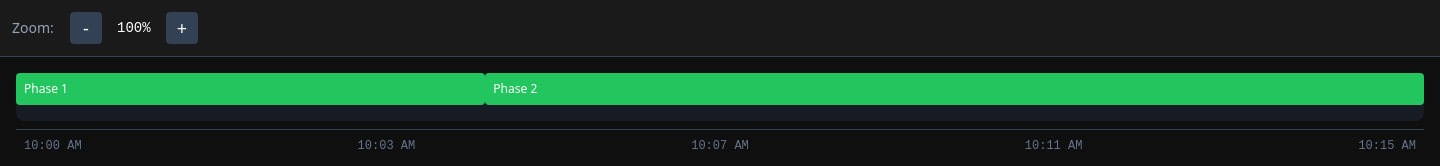
TimelineView › should increase zoom when zoom in button is clicked
Expected: the text with test id "zoom-level" reads "100%", [117,20,151,36]
Click the button with test id "zoom-in-button".
click(182, 28)  # box [166,12,198,44]
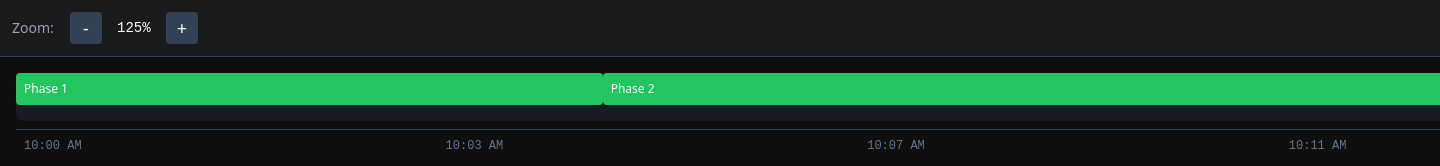
Expected: the text with test id "zoom-level" reads "125%", [117,20,151,36]
